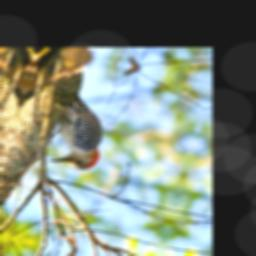Woodpecker: (34, 84, 131, 179)
